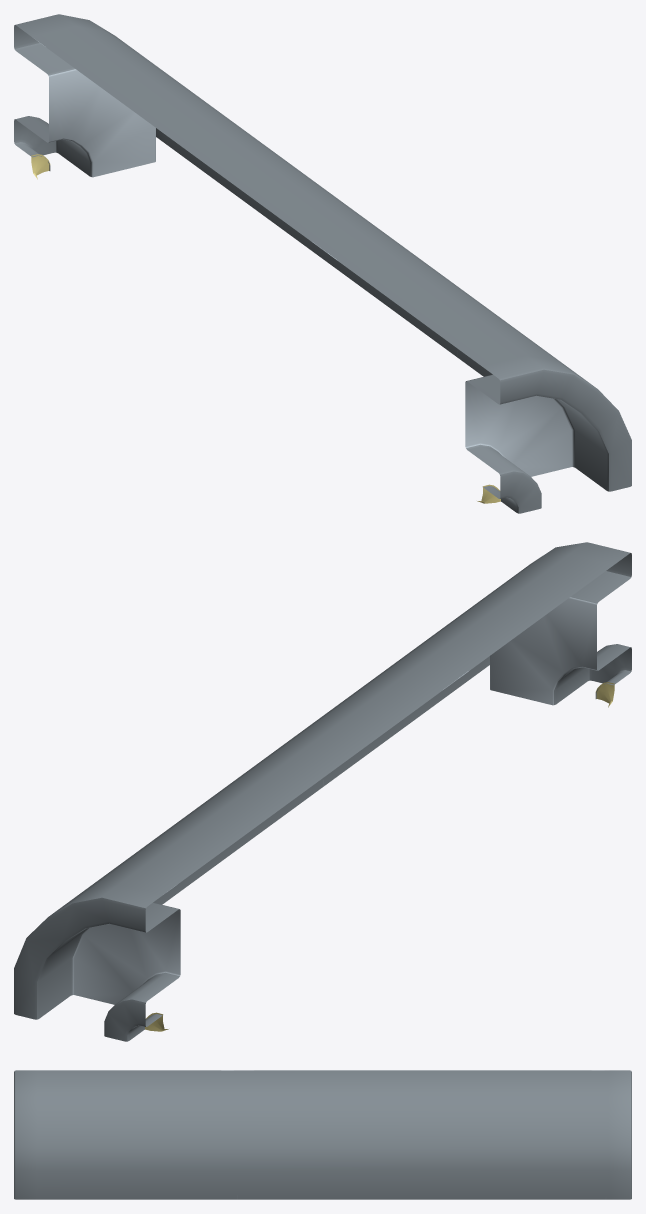
The model's file is SM_WallExteriorCorner_50x50.fbx.
3 views of the same model, one above another, from view 1: azimuth 30°, elevation 25°; view 2: azimuth 150°, elevation 25°; view 3: azimuth 270°, elevation 25° (orthographic). The views are drawn at different scales.
Parts seen in each view (by area): view 1: SM_WallExteriorCorner_50x50; view 2: SM_WallExteriorCorner_50x50; view 3: SM_WallExteriorCorner_50x50.
Part boxes in pixels (x1=…): SM_WallExteriorCorner_50x50: x1=14, y1=14, x2=631, y2=513; SM_WallExteriorCorner_50x50: x1=14, y1=542, x2=631, y2=1041; SM_WallExteriorCorner_50x50: x1=14, y1=1070, x2=631, y2=1199.
Bounding box in the file's own units: 44.12 × 280 × 44.03.
Materials: 1 (1 with a texture image).
